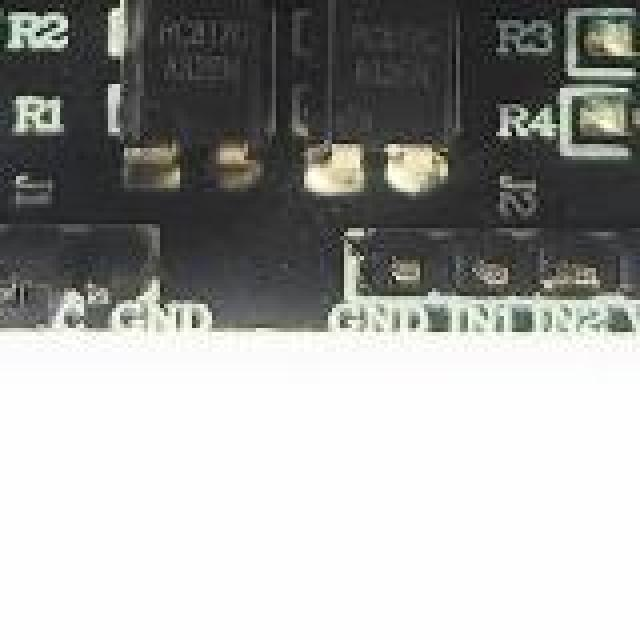IC: (296, 0, 472, 184), (136, 0, 280, 176)
connector: (344, 228, 640, 316), (0, 236, 164, 328)
resistor: (588, 84, 640, 144), (604, 20, 640, 60)
